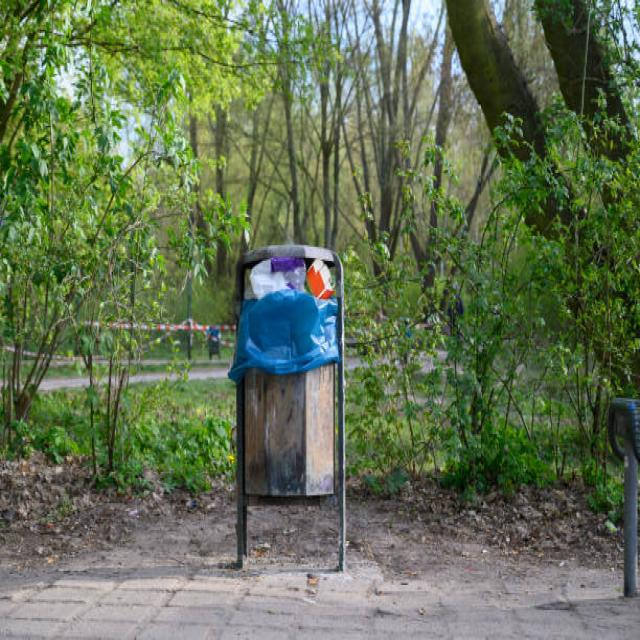trash: (234, 267, 347, 365)
